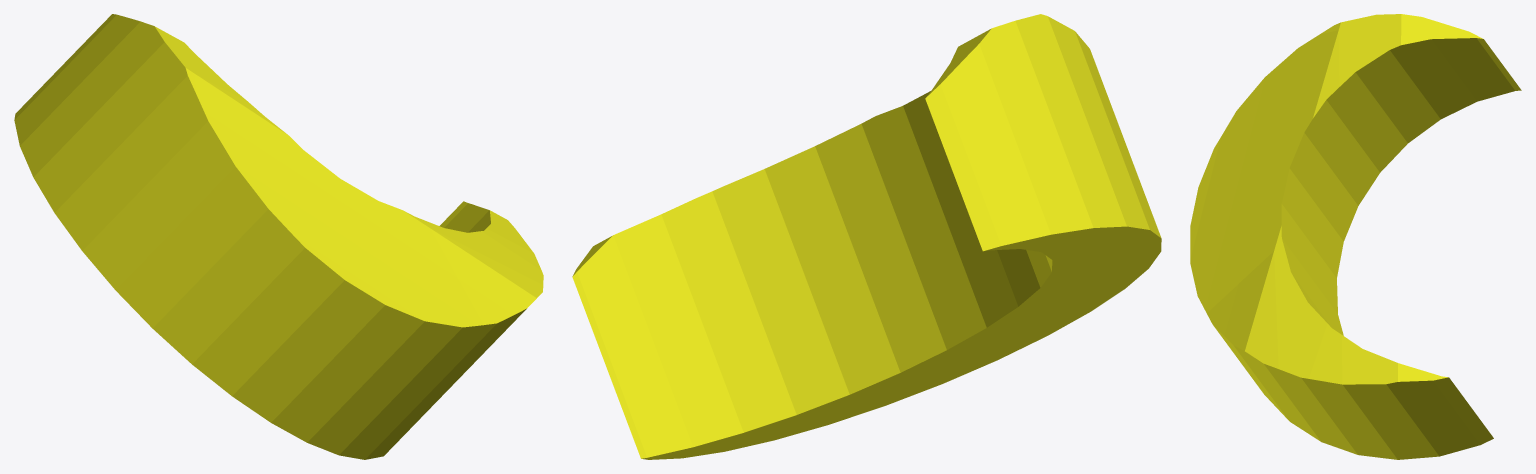
File: moon.fbx
3 views of the same model, side by side, from view 1: azimuth 30°, elevation 25°; view 2: azimuth 150°, elevation 25°; view 3: azimuth 270°, elevation 25° (orthographic). The views are drawn at different scales.
Parts seen in each view (by area): view 1: moon.001; view 2: moon.001; view 3: moon.001.
Part boxes in pixels (x1,y1,x2,y2): moon.001: [14, 14, 543, 459]; moon.001: [572, 14, 1161, 459]; moon.001: [1190, 14, 1521, 459].
Size of the model in its own units: 148 by 133 by 113.
